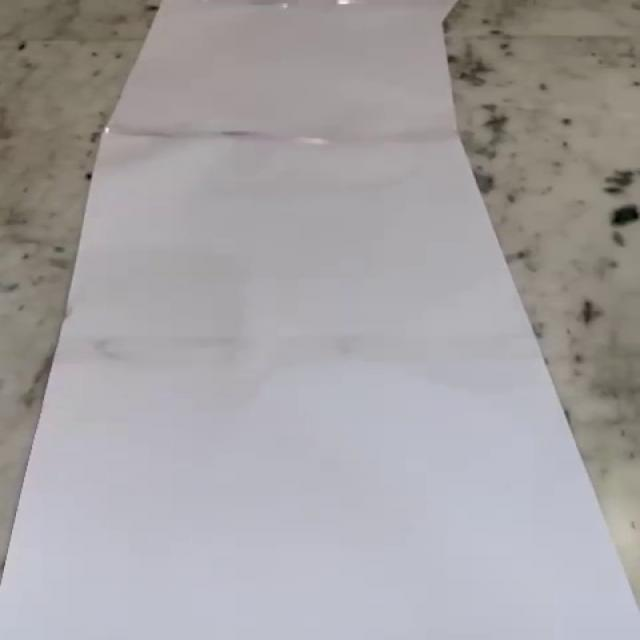road: (3, 0, 637, 640)
